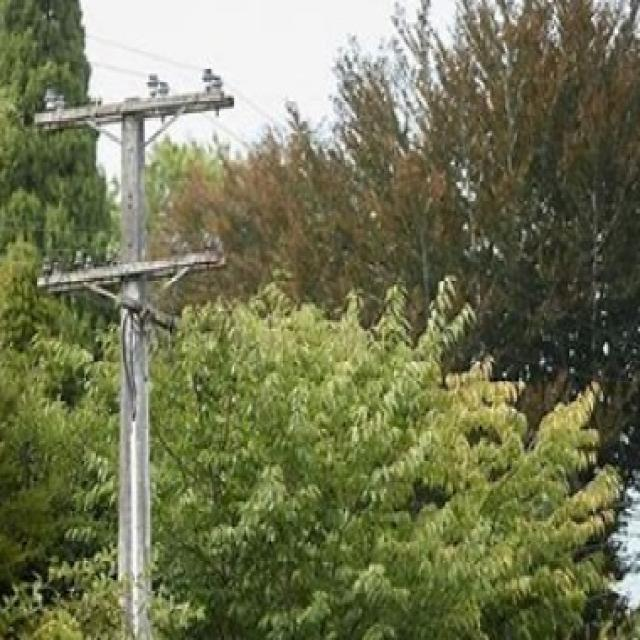utility poles: (15, 59, 254, 640)
